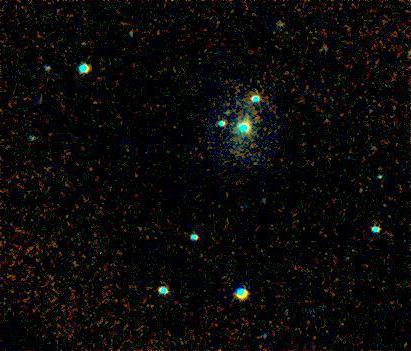star: (69, 28, 99, 58)
